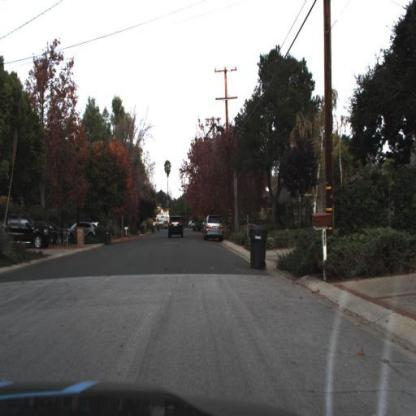car: (8, 216, 55, 252), (165, 212, 186, 243), (70, 221, 98, 244), (203, 214, 226, 241), (52, 222, 71, 250), (194, 222, 203, 234)
